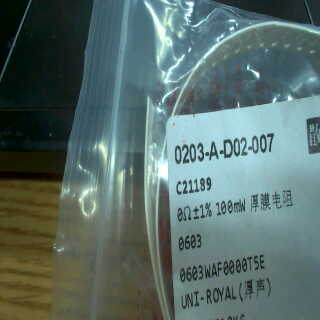0R: (174, 194, 248, 251)
